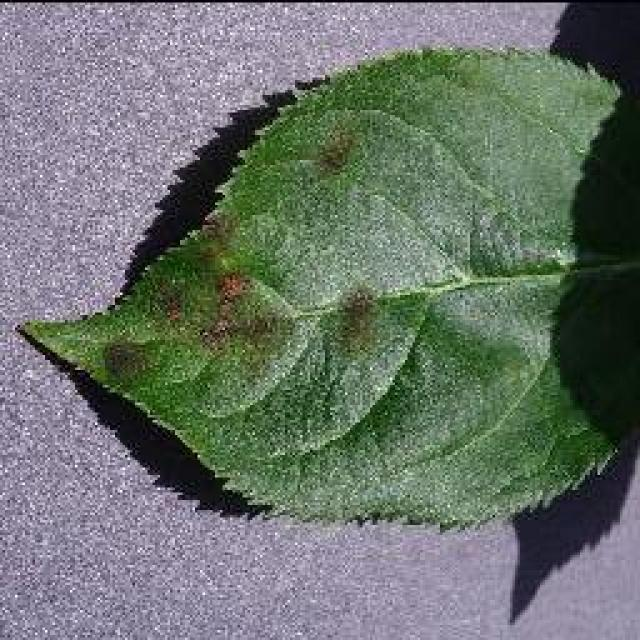apple scab disease: (15, 40, 637, 530)
